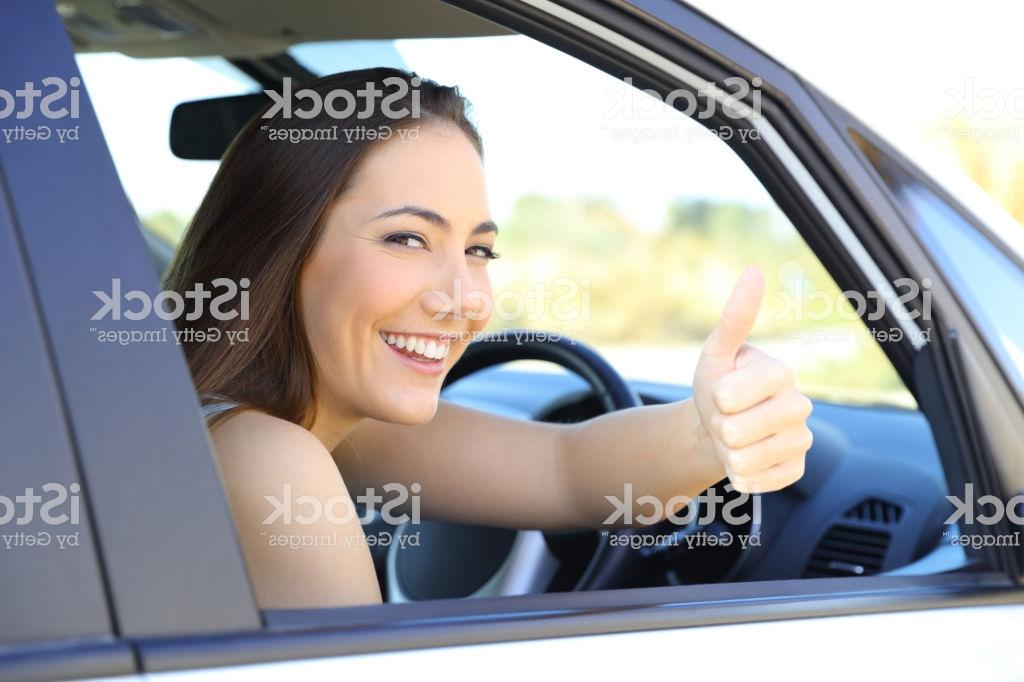thumbsup: (689, 263, 813, 495)
